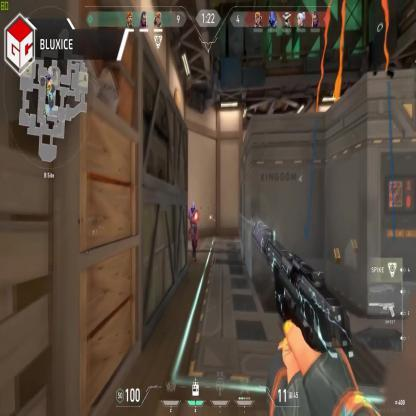enemy: (187, 202, 200, 262)
enemy_head: (191, 202, 196, 212)
